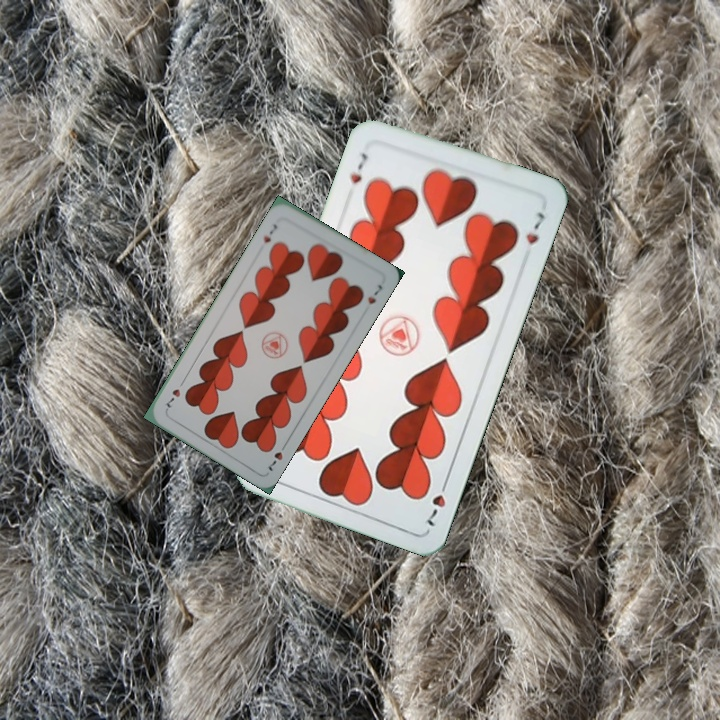H7: (423, 473, 452, 529), (346, 148, 371, 186), (264, 438, 290, 474), (259, 220, 280, 246)
